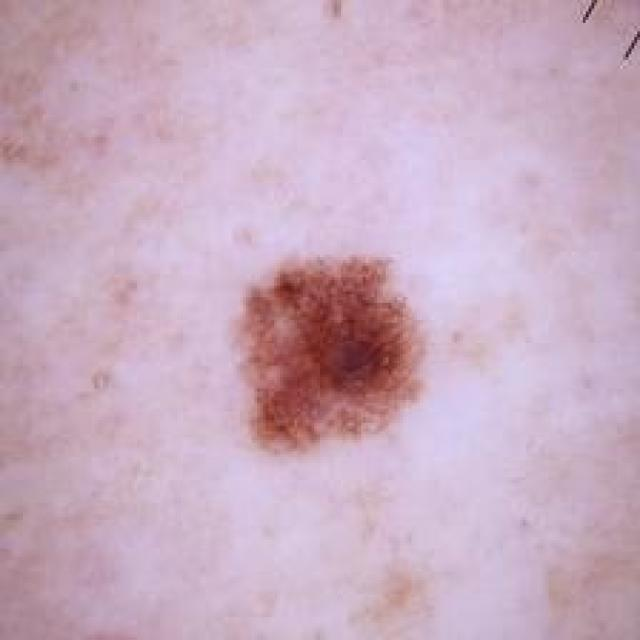Cancer: (225, 248, 422, 453)
